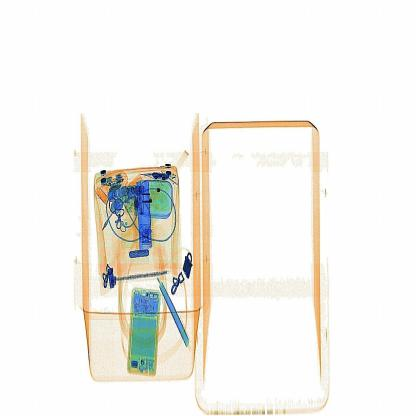pliers: (126, 166, 160, 266)
